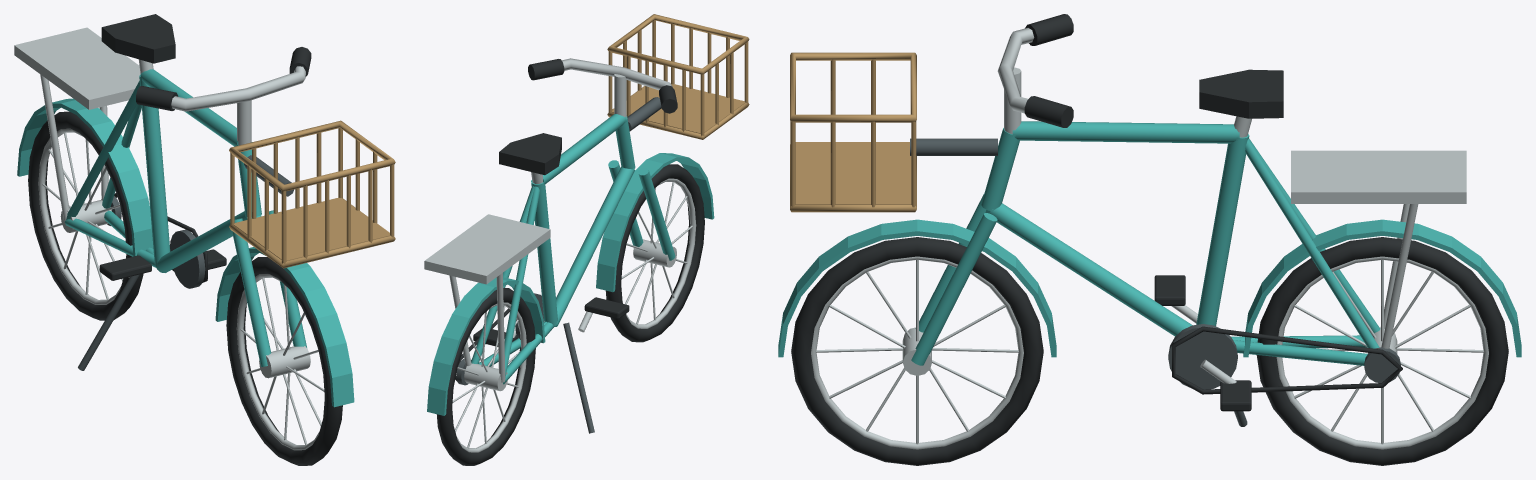
Rendered from bicycle_city.glb.
3 renders of one model, left to right at view 1: azimuth 30°, elevation 25°; view 2: azimuth 150°, elevation 25°; view 3: azimuth 270°, elevation 25°, orthographic. The views are drawn at different scales.
Visible parts, largest first — view 1: City_Bicycle_Rear_Rack, City_Bicycle_Front_Tire, City_Bicycle_Rear_Tire, City_Bicycle_Front_Basket_Bottom, City_Bicycle_Rear_Mudguard, City_Bicycle_Front_Mudguard, City_Bicycle_Saddle, City_Bicycle_Seat_Tube, City_Bicycle_Front_Basket_Rim_1.14, City_Bicycle_Swept_Handlebar, City_Bicycle_Fork_-1, City_Bicycle_Rear_Rim (+19 smaller); view 2: City_Bicycle_Rear_Rack, City_Bicycle_Rear_Tire, City_Bicycle_Front_Tire, City_Bicycle_Rear_Mudguard, City_Bicycle_Front_Mudguard, City_Bicycle_Front_Basket_Bottom, City_Bicycle_Down_Tube, City_Bicycle_Saddle, City_Bicycle_Front_Basket_Rim_1.14, City_Bicycle_Seat_Tube, City_Bicycle_Top_Tube, City_Bicycle_Swept_Handlebar (+19 smaller); view 3: City_Bicycle_Front_Tire, City_Bicycle_Rear_Tire, City_Bicycle_Rear_Rack, City_Bicycle_Front_Basket_Bottom, City_Bicycle_Front_Mudguard, City_Bicycle_Rear_Mudguard, City_Bicycle_Down_Tube, City_Bicycle_Top_Tube, City_Bicycle_Seat_Tube, City_Bicycle_Saddle, City_Bicycle_Front_Rim, City_Bicycle_Rear_Rim (+20 smaller).
Boxes of the visible parts, x1,y1,x2,y2 form: City_Bicycle_Rear_Rack: (14,27,140,109); City_Bicycle_Front_Tire: (226,257,342,465); City_Bicycle_Rear_Tire: (28,111,143,320); City_Bicycle_Front_Basket_Bottom: (233,197,390,261); City_Bicycle_Rear_Mudguard: (17,98,153,256); City_Bicycle_Front_Mudguard: (215,247,354,407); City_Bicycle_Saddle: (101,14,175,63); City_Bicycle_Seat_Tube: (139,74,170,266); City_Bicycle_Front_Basket_Rim_1.14: (229,120,395,191); City_Bicycle_Swept_Handlebar: (171,66,305,111); City_Bicycle_Fork_-1: (230,218,271,366); City_Bicycle_Rear_Rim: (38,128,120,304); City_Bicycle_Rear_Rack: (424,214,550,284); City_Bicycle_Rear_Tire: (436,288,535,465); City_Bicycle_Front_Tire: (605,164,704,342); City_Bicycle_Rear_Mudguard: (427,277,545,415); City_Bicycle_Front_Mudguard: (596,153,714,292); City_Bicycle_Front_Basket_Bottom: (612,84,745,133); City_Bicycle_Down_Tube: (554,167,634,326); City_Bicycle_Saddle: (499,133,561,175); City_Bicycle_Front_Basket_Rim_1.14: (607,14,749,74); City_Bicycle_Seat_Tube: (531,180,558,326); City_Bicycle_Top_Tube: (543,114,626,183); City_Bicycle_Swept_Handlebar: (562,58,672,90); City_Bicycle_Front_Tire: (791,237,1043,465); City_Bicycle_Rear_Tire: (1256,237,1508,465); City_Bicycle_Rear_Rack: (1291,150,1466,203); City_Bicycle_Front_Basket_Bottom: (795,142,911,204); City_Bicycle_Front_Mudguard: (778,219,1056,357); City_Bicycle_Rear_Mudguard: (1243,219,1521,357); City_Bicycle_Down_Tube: (985,203,1192,336); City_Bicycle_Top_Tube: (1012,121,1239,143); City_Bicycle_Seat_Tube: (1196,134,1249,326); City_Bicycle_Saddle: (1199,69,1283,118); City_Bicycle_Front_Rim: (811,256,1023,449); City_Bicycle_Rear_Rim: (1276,256,1488,449).
Size of the model in its own units: 0.6483 by 1.22 by 2.03.
